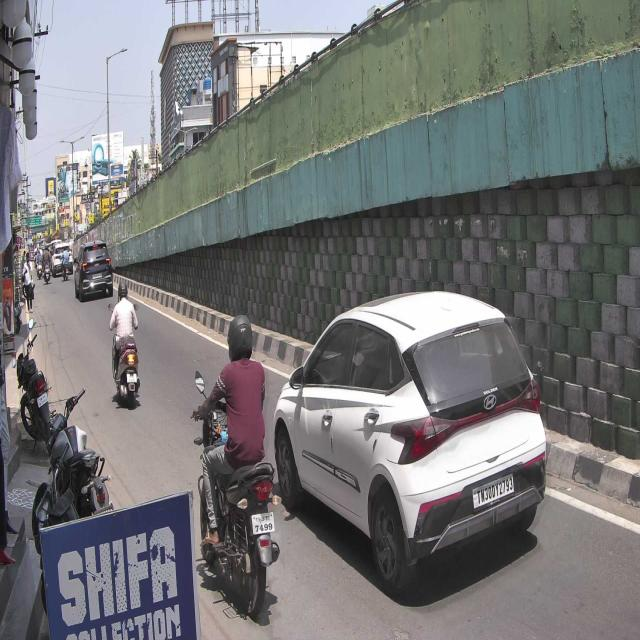single_rider: (188, 310, 282, 620), (107, 280, 142, 411)
